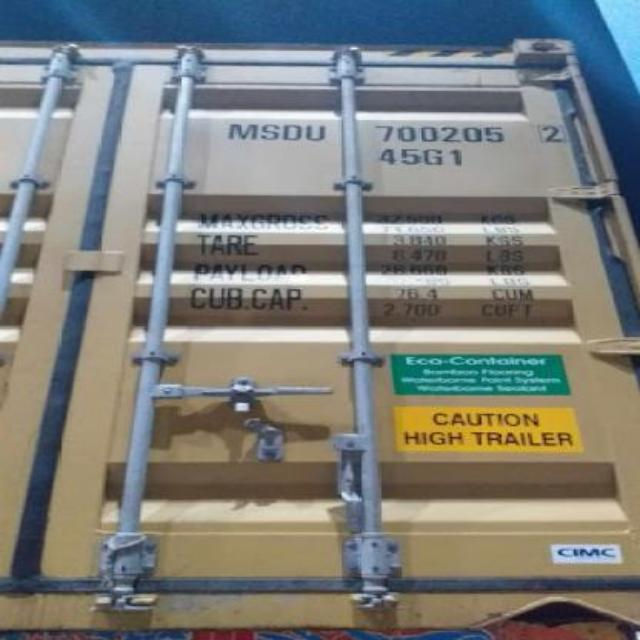0: (416, 122, 442, 142), (460, 123, 484, 141), (396, 123, 416, 143)
2: (442, 122, 462, 144), (544, 125, 564, 143)
5: (484, 122, 504, 144)
7: (370, 124, 396, 142)
D: (280, 121, 306, 142)
M: (227, 123, 260, 141)
S: (258, 122, 282, 140)
U: (304, 122, 330, 142)
